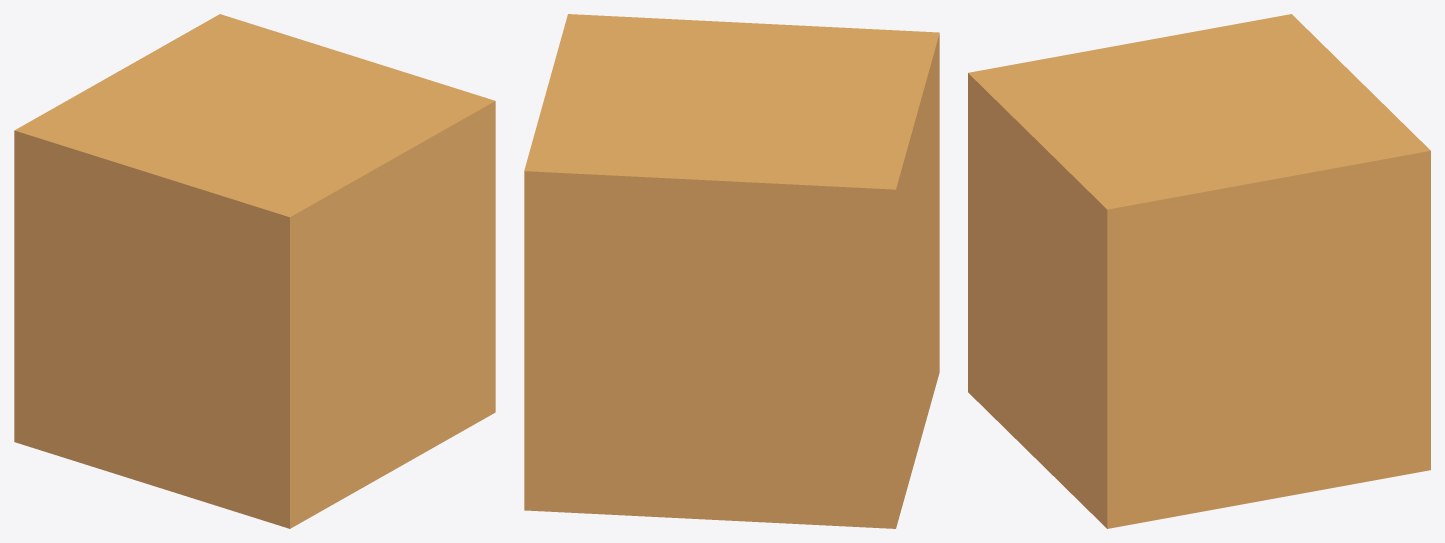
Rendered from crate1.gltf.
3 views of the same model, side by side, from view 1: azimuth 30°, elevation 25°; view 2: azimuth 150°, elevation 25°; view 3: azimuth 270°, elevation 25° (orthographic). The views are drawn at different scales.
Visible parts, largest first — view 1: crate1; view 2: crate1; view 3: crate1.
Boxes of the visible parts, x1,y1,x2,y2 form: crate1: (14, 14, 495, 528); crate1: (524, 14, 939, 528); crate1: (968, 14, 1430, 528).
Bounding box in the file's own units: 1.77 × 1.35 × 1.77.
